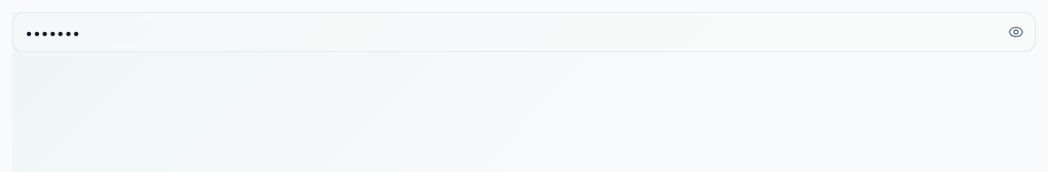
Test: hidden until it is asked for › hides it again
Click the button named "password" at (1016, 32), box [996,12,1036,52]
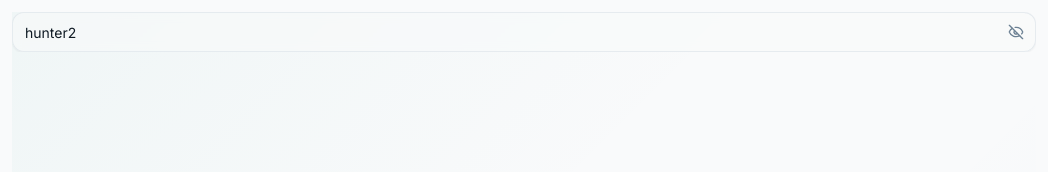
Click the button named "password" at (1016, 32), box [996,12,1036,52]
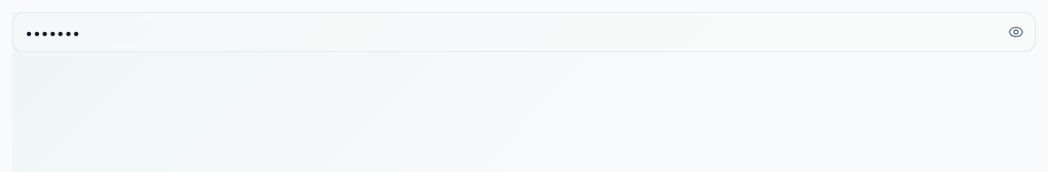
Now the password field named "Password" hides its text, box [12,12,1036,52]
